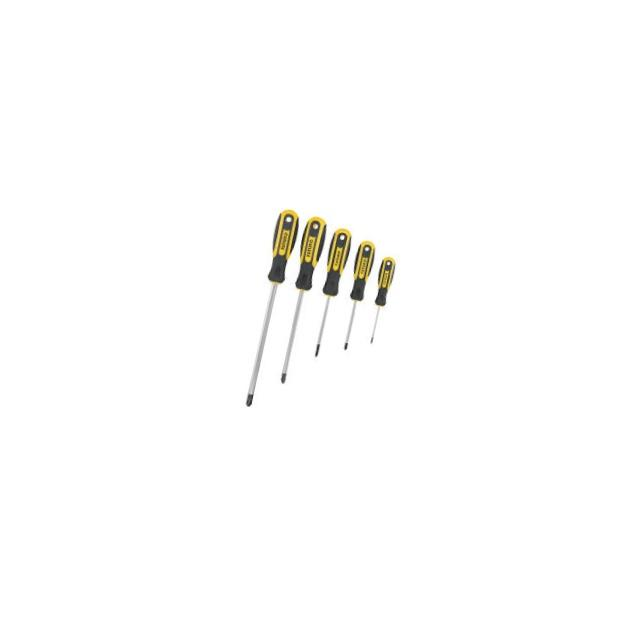screwdriver: (236, 208, 303, 410), (271, 214, 331, 387), (305, 225, 356, 362), (334, 240, 378, 354), (362, 254, 398, 350)
